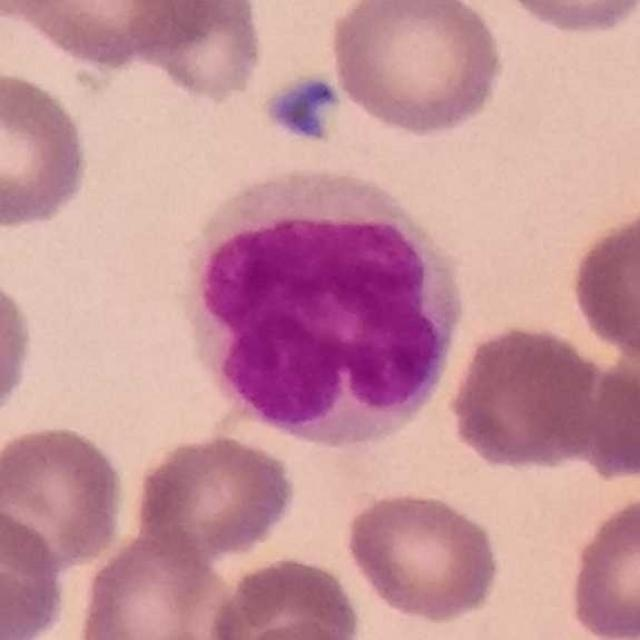mono: (179, 164, 470, 451)
